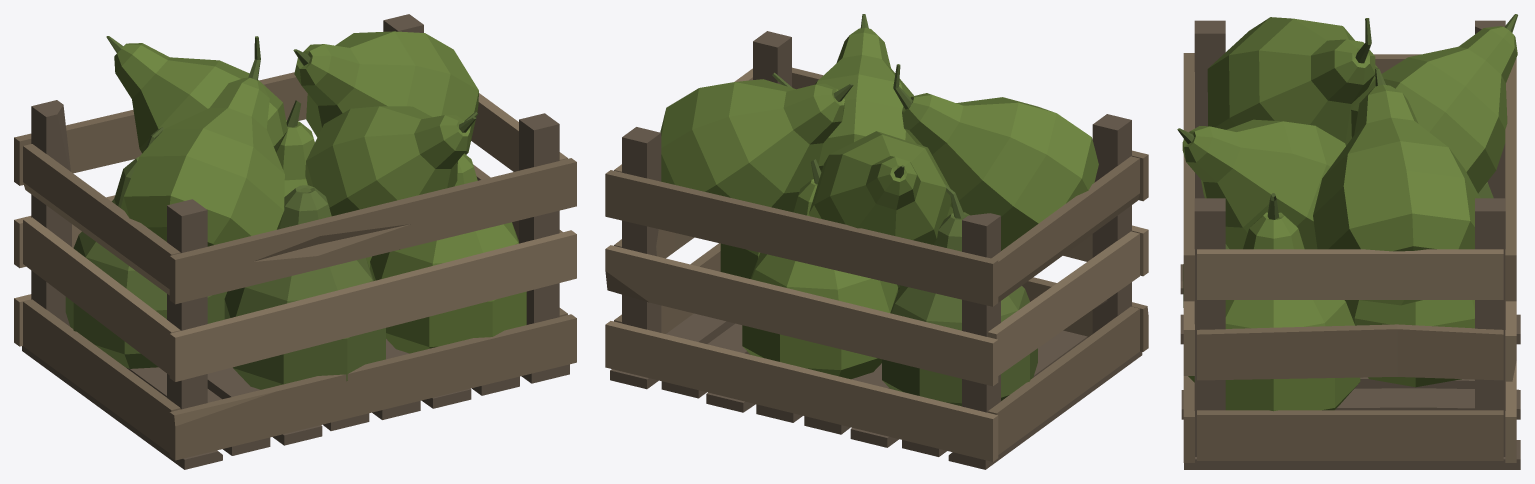
File: SM_Props_Farm_Crate_Filled_BottleGourd.fbx
The picture shows the model from 3 angles, left to right: view 1: azimuth 30°, elevation 25°; view 2: azimuth 150°, elevation 25°; view 3: azimuth 270°, elevation 25°; orthographic projection. The views are drawn at different scales.
Visible parts, largest first — view 1: SM_Props_Farm_Crate_Filled_BottleGourd; view 2: SM_Props_Farm_Crate_Filled_BottleGourd; view 3: SM_Props_Farm_Crate_Filled_BottleGourd.
Part boxes in pixels (left/top/right/bottom): SM_Props_Farm_Crate_Filled_BottleGourd: left=14, top=14, right=576, bottom=469; SM_Props_Farm_Crate_Filled_BottleGourd: left=605, top=14, right=1148, bottom=469; SM_Props_Farm_Crate_Filled_BottleGourd: left=1177, top=14, right=1520, bottom=469.
Bounding box in the file's own units: 103 × 79.95 × 73.55.
